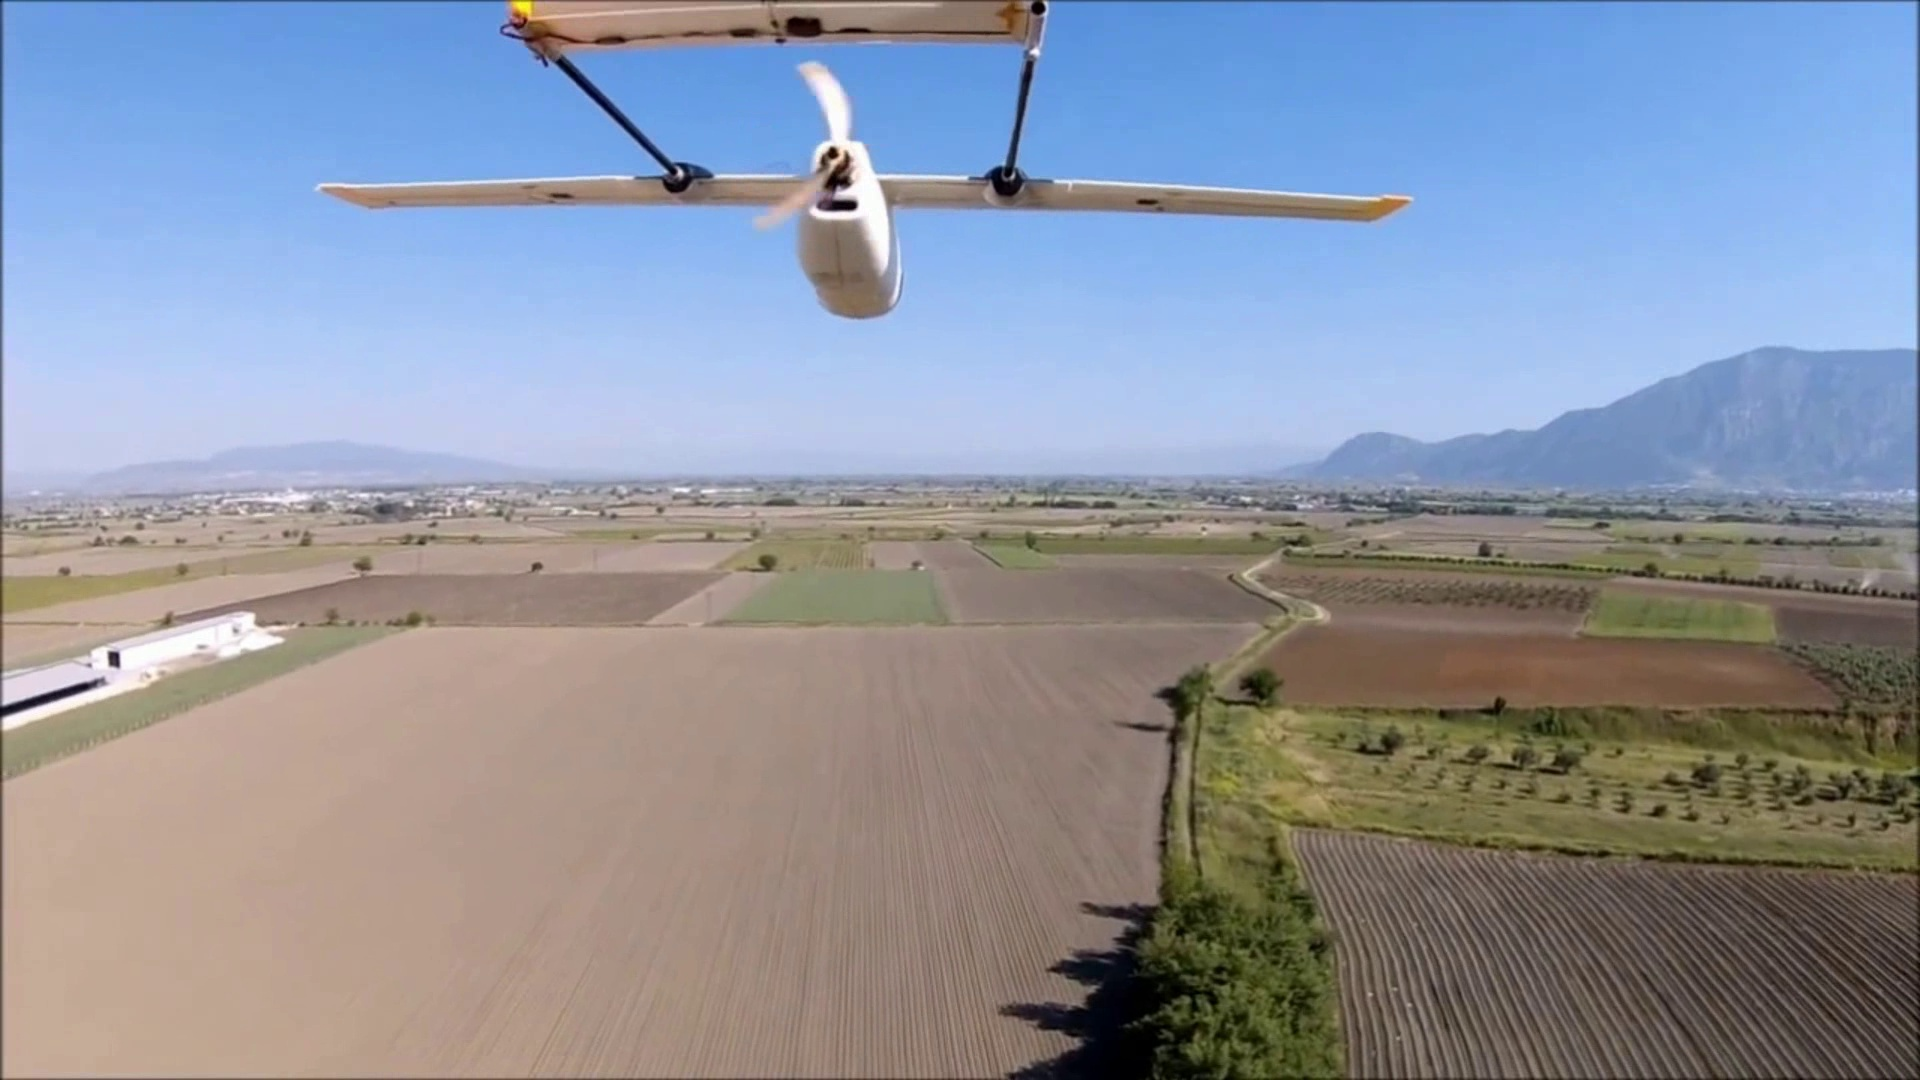airplane: (320, 4, 1410, 316)
